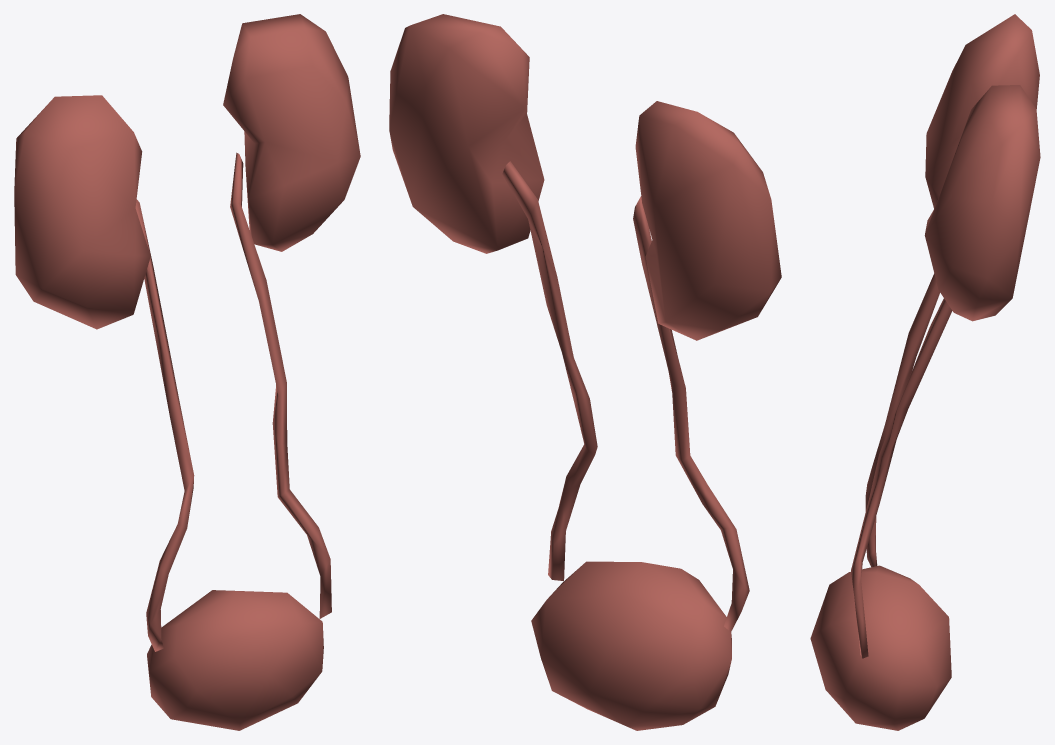
File: pediatric_child_10y_male.urinary.LOD3.glb
3 views of the same model, side by side, from view 1: azimuth 30°, elevation 25°; view 2: azimuth 150°, elevation 25°; view 3: azimuth 270°, elevation 25° (orthographic). The views are drawn at different scales.
Visible parts, largest first — view 1: PEDIATRIC.CHILD_10Y.MALE.URINARY.KIDNEY_CORTEX.R, PEDIATRIC.CHILD_10Y.MALE.URINARY.KIDNEY_CORTEX.L, PEDIATRIC.CHILD_10Y.MALE.URINARY.URINARY_BLADDER_WALL, PEDIATRIC.CHILD_10Y.MALE.URINARY.URETER.L, PEDIATRIC.CHILD_10Y.MALE.URINARY.URETER.R; view 2: PEDIATRIC.CHILD_10Y.MALE.URINARY.KIDNEY_CORTEX.L, PEDIATRIC.CHILD_10Y.MALE.URINARY.URINARY_BLADDER_WALL, PEDIATRIC.CHILD_10Y.MALE.URINARY.KIDNEY_CORTEX.R, PEDIATRIC.CHILD_10Y.MALE.URINARY.URETER.L, PEDIATRIC.CHILD_10Y.MALE.URINARY.URETER.R; view 3: PEDIATRIC.CHILD_10Y.MALE.URINARY.KIDNEY_CORTEX.L, PEDIATRIC.CHILD_10Y.MALE.URINARY.URINARY_BLADDER_WALL, PEDIATRIC.CHILD_10Y.MALE.URINARY.KIDNEY_CORTEX.R, PEDIATRIC.CHILD_10Y.MALE.URINARY.URETER.L, PEDIATRIC.CHILD_10Y.MALE.URINARY.URETER.R.
Boxes of the visible parts, x1,y1,x2,y2 form: PEDIATRIC.CHILD_10Y.MALE.URINARY.KIDNEY_CORTEX.R: (14,95,150,329); PEDIATRIC.CHILD_10Y.MALE.URINARY.KIDNEY_CORTEX.L: (223,14,360,251); PEDIATRIC.CHILD_10Y.MALE.URINARY.URINARY_BLADDER_WALL: (147,590,323,730); PEDIATRIC.CHILD_10Y.MALE.URINARY.URETER.L: (230,152,331,618); PEDIATRIC.CHILD_10Y.MALE.URINARY.URETER.R: (135,199,194,651); PEDIATRIC.CHILD_10Y.MALE.URINARY.KIDNEY_CORTEX.L: (389,14,544,253); PEDIATRIC.CHILD_10Y.MALE.URINARY.URINARY_BLADDER_WALL: (531,561,731,730); PEDIATRIC.CHILD_10Y.MALE.URINARY.KIDNEY_CORTEX.R: (635,101,781,340); PEDIATRIC.CHILD_10Y.MALE.URINARY.URETER.L: (502,161,597,580); PEDIATRIC.CHILD_10Y.MALE.URINARY.URETER.R: (633,196,749,631); PEDIATRIC.CHILD_10Y.MALE.URINARY.KIDNEY_CORTEX.L: (924,85,1040,321); PEDIATRIC.CHILD_10Y.MALE.URINARY.URINARY_BLADDER_WALL: (810,565,951,730); PEDIATRIC.CHILD_10Y.MALE.URINARY.KIDNEY_CORTEX.R: (925,14,1039,208); PEDIATRIC.CHILD_10Y.MALE.URINARY.URETER.L: (851,298,952,658); PEDIATRIC.CHILD_10Y.MALE.URINARY.URETER.R: (865,273,939,567).
Bounding box in the file's own units: 0.1562 × 0.2835 × 0.088.
